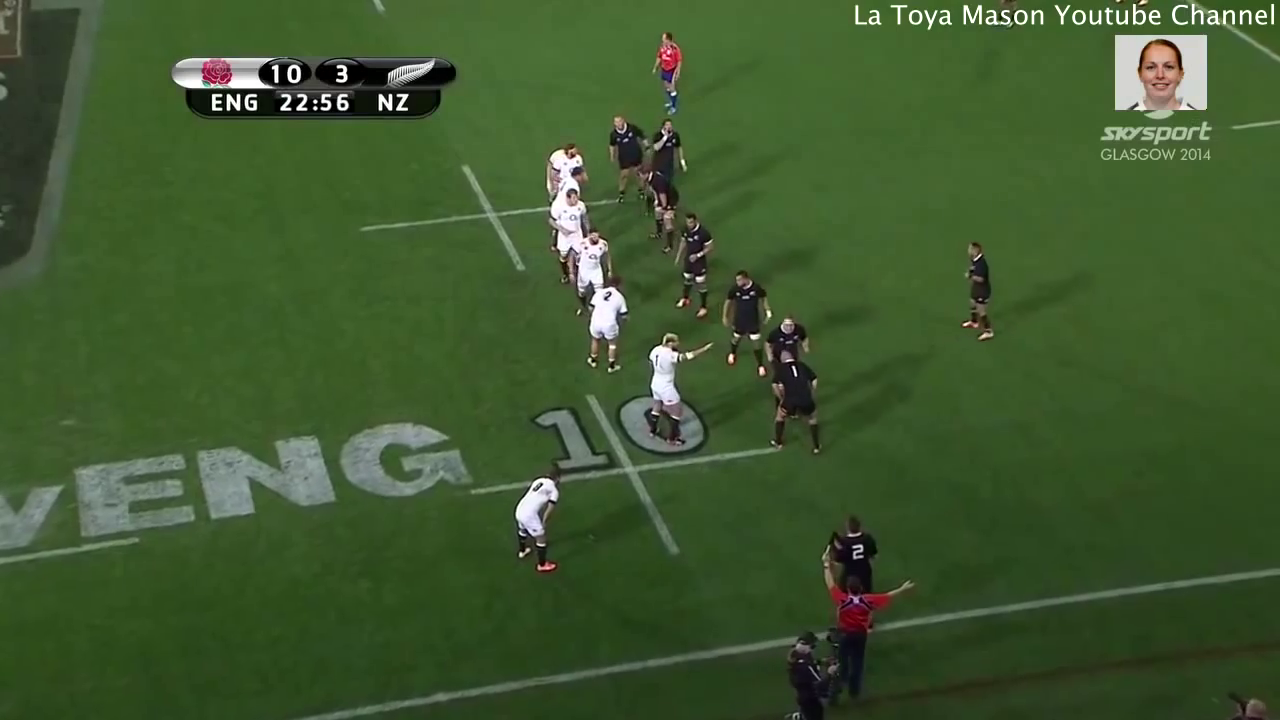10_metre: (465, 392, 796, 560), (353, 160, 632, 280)
lineout: (526, 94, 855, 488)
player: (818, 541, 921, 705), (635, 324, 709, 444), (765, 348, 828, 464), (505, 461, 569, 575), (813, 508, 889, 593), (720, 264, 773, 380), (950, 234, 998, 348), (581, 273, 629, 372), (633, 163, 681, 260), (572, 226, 622, 316), (673, 210, 711, 324), (602, 112, 647, 203), (549, 189, 590, 288), (641, 30, 685, 116), (755, 308, 817, 358), (645, 116, 689, 172), (548, 162, 589, 208), (545, 136, 581, 185)
